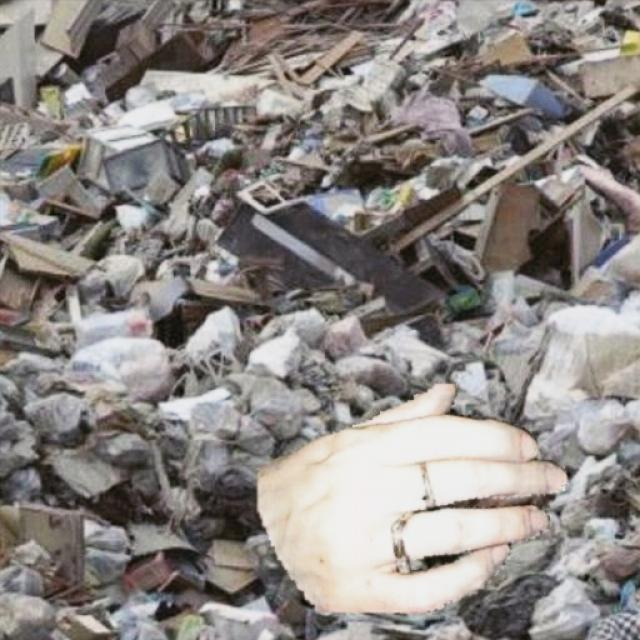Person in Rubble: (257, 384, 568, 612)
